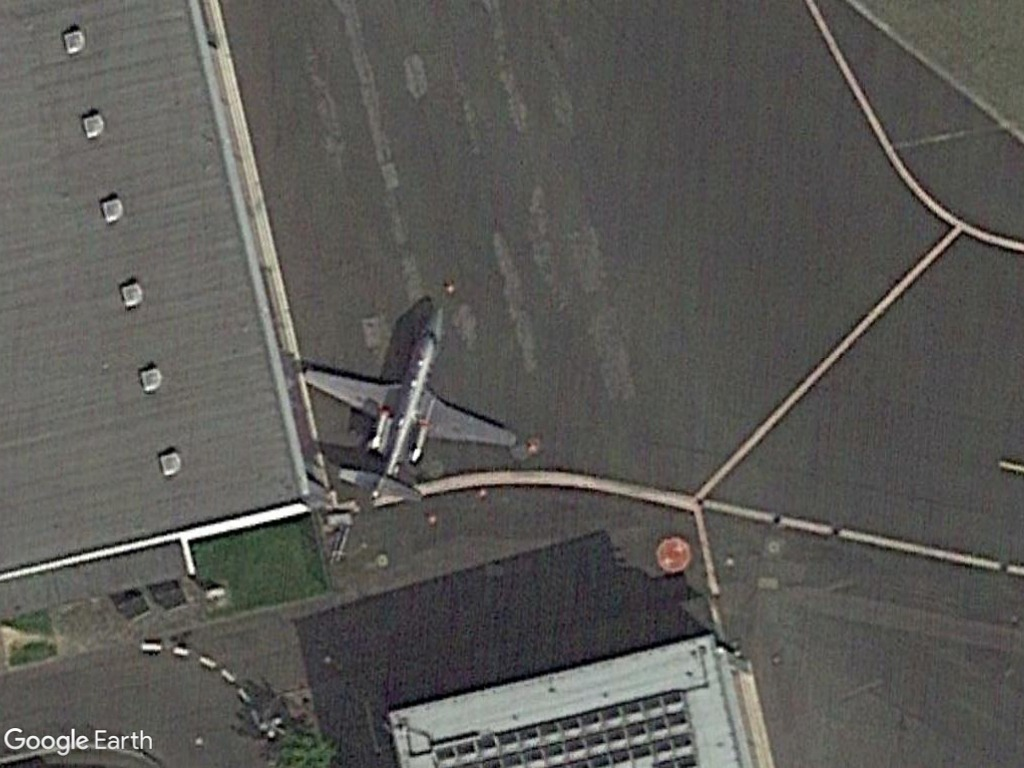chartered: (292, 296, 523, 509)
